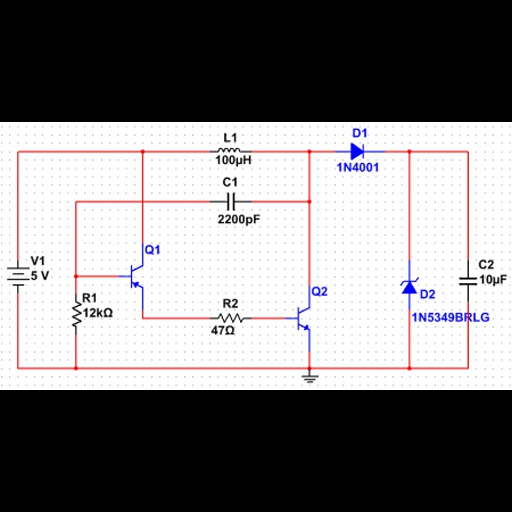battery: (5, 263, 30, 291)
capacitor: (451, 272, 478, 291), (222, 189, 243, 212)
firstdiode: (344, 139, 370, 161)
gnd: (300, 374, 321, 384)
inductor: (214, 143, 245, 154)
npn: (289, 299, 314, 336)
pnp: (122, 262, 154, 293)
secondresistance: (212, 309, 249, 323), (69, 295, 82, 333)
